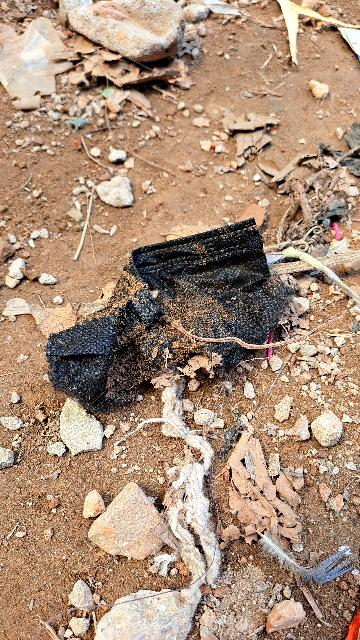mask: (29, 213, 298, 428)
